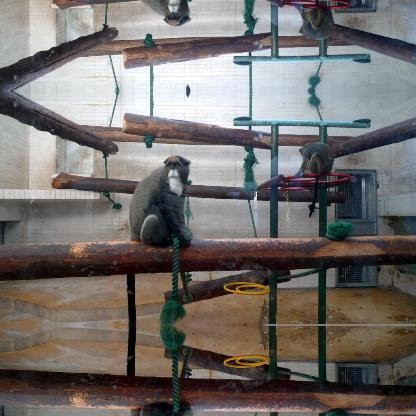Monkey: (125, 152, 195, 258), (298, 141, 332, 217), (125, 0, 196, 31), (125, 391, 196, 415), (298, 0, 333, 42)
